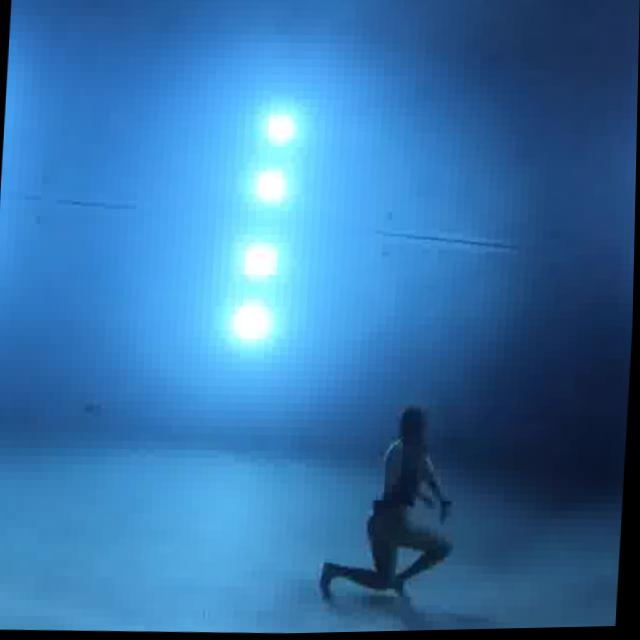human: (315, 395, 472, 617)
